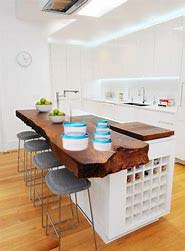copymove: (49, 108, 66, 125)
removal: (146, 41, 180, 67)
spliced: (60, 118, 116, 153)
